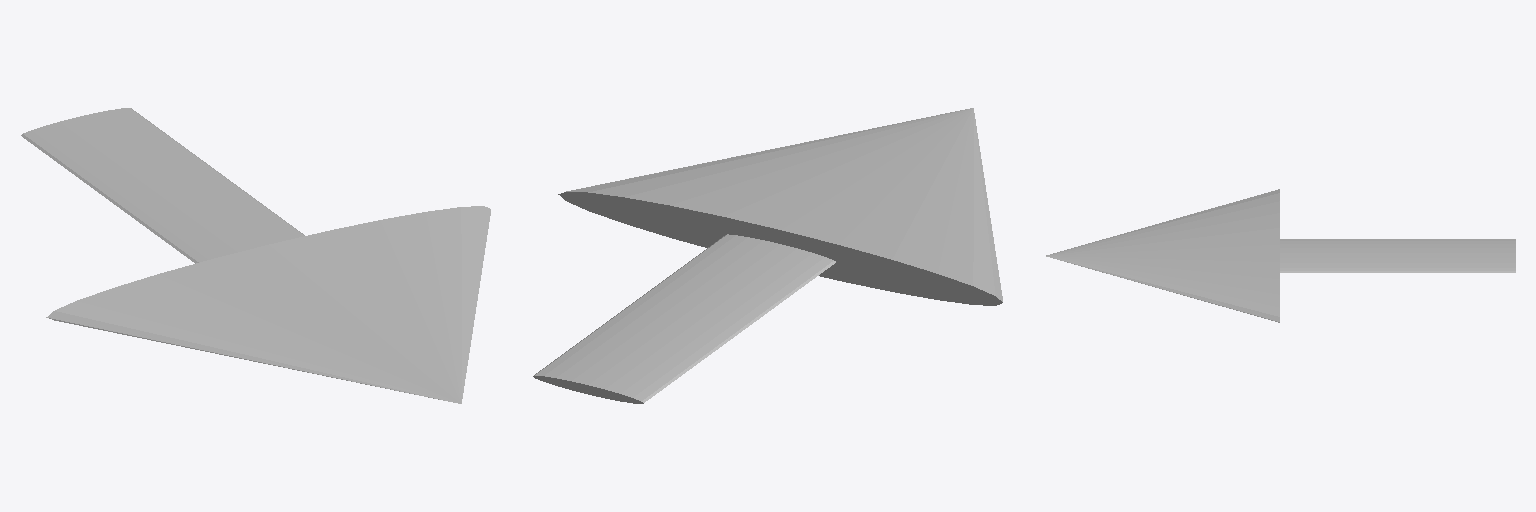
robot.urdf — target:
<?xml version="1.0" ?>
<robot name="target">

  <material name="steel">
    <color rgba="0.75 0.75 0.75 1"/>
  </material>
  
  <link name="world"/>
  
  <link name="arrow">
    <visual>
      <origin rpy="0 0 0" xyz="0 0 0"/>
      <geometry>
  			<mesh filename="arrow_lin.stl" scale="1.25 0.1 0.75"/>
      </geometry>
      <material name = "steel"/>
    </visual>
    <inertial>
      <origin rpy="0 0 0" xyz="0 0 0"/>
      <mass value="0"/>
      <inertia ixx="0" ixy="0" ixz="0" iyy="0" iyz="0" izz="0"/>
    </inertial>
  </link>
  
<joint name="world_to_arrow" type="continuous">
		<parent link = "world" />
		<child link = "arrow" />
		<origin xyz = "0 0 0.0" rpy="1.5707963267948966 0 0"/>
		<axis xyz = "0 1 0" />
  </joint>

</robot>

--- Facts derived from the render (not from the file) ---
3 views of the same robot in one strip: view 1: azimuth 30°, elevation 25°; view 2: azimuth 150°, elevation 25°; view 3: azimuth 270°, elevation 25° (orthographic).
Robot: target — 2 links, 1 joints (1 continuous); root link world; default pose: every joint at zero.
Visible links, largest first — view 1: arrow; view 2: arrow; view 3: arrow.
Boxes of the visible links, box(x1,y1,x2,y2) form: arrow: box(21, 108, 490, 403); arrow: box(533, 108, 1002, 403); arrow: box(1046, 189, 1515, 322).
Bounding box of the posed robot: 0.5 × 0.75 × 0.04 m (x, y, z).
1 mesh visuals loaded from 1 distinct referenced files (1 binary STL).
